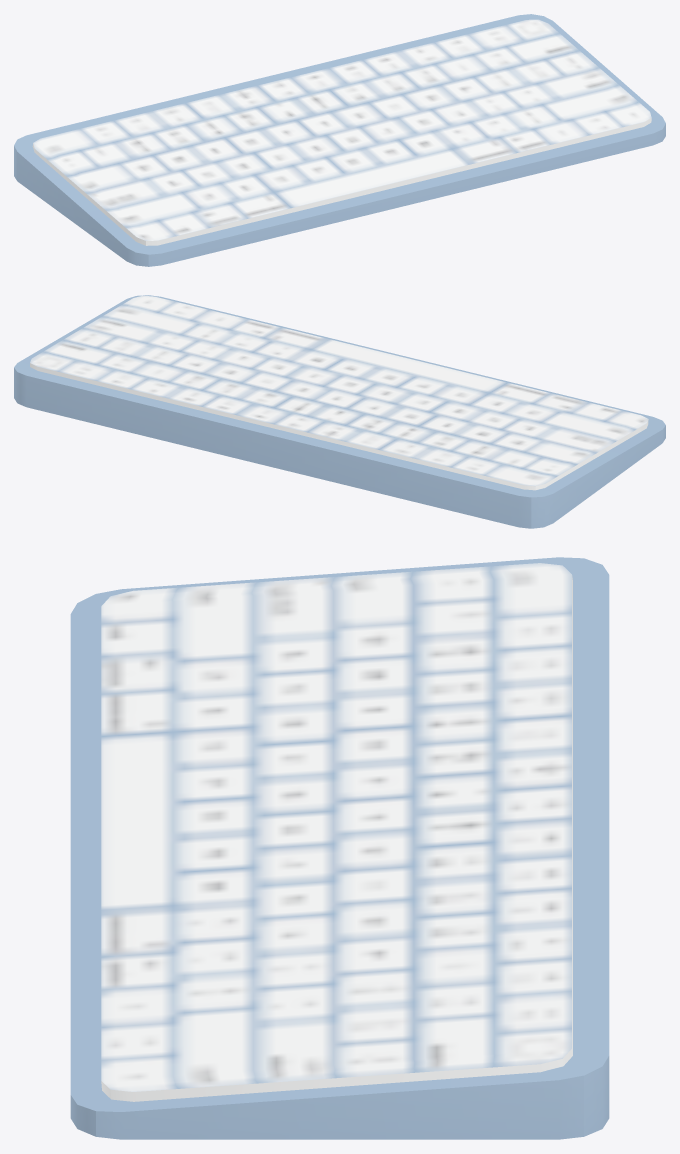
The model's file is keyboard.glb.
The picture shows the model from 3 angles, top to bottom: view 1: azimuth 30°, elevation 25°; view 2: azimuth 150°, elevation 25°; view 3: azimuth 270°, elevation 25°; orthographic projection. The views are drawn at different scales.
Parts seen in each view (by area): view 1: keyboard; view 2: keyboard; view 3: keyboard.
Boxes of the visible parts, x1,y1,x2,y2 form: keyboard: (14, 14, 665, 266); keyboard: (14, 295, 665, 528); keyboard: (70, 557, 609, 1139).
Size of the model in its own units: 44 by 2.68 by 19.16.
2 materials, 2 textured.
